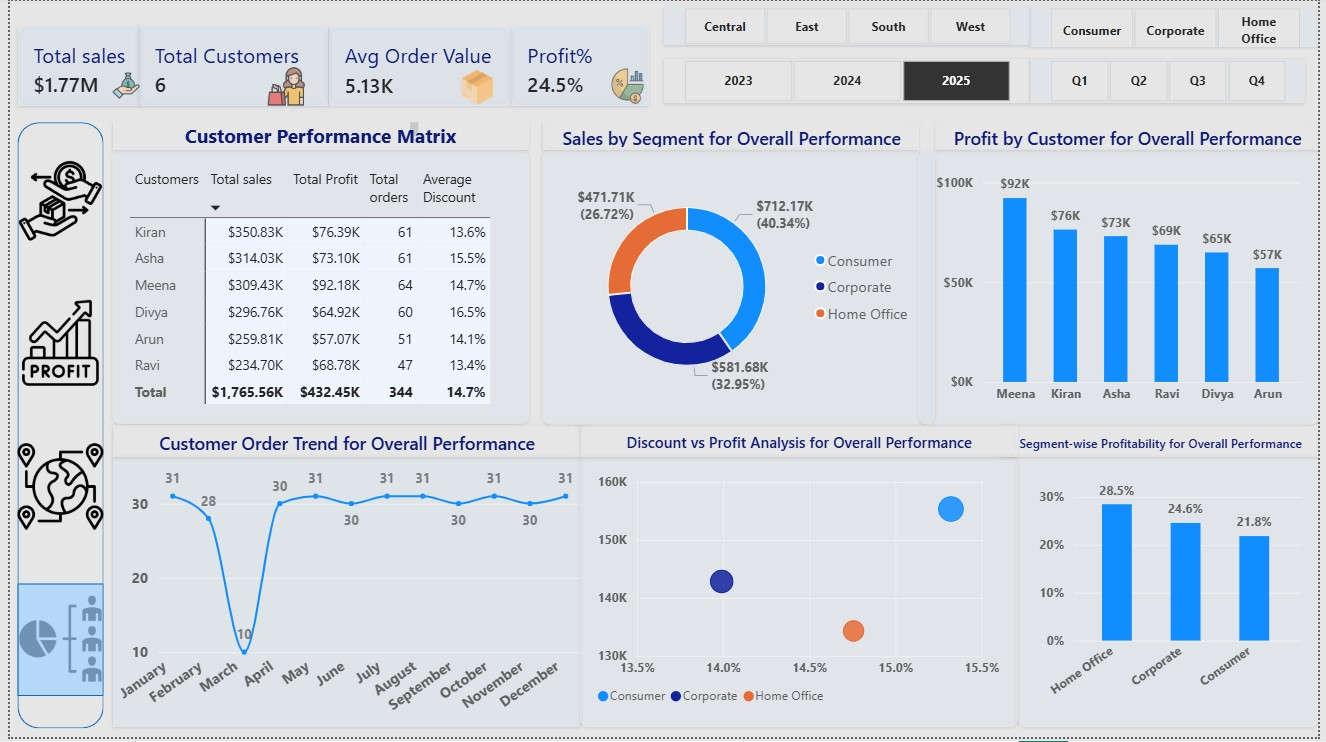

What the dashboard file says about the page in this screenshot:
{"tool":"powerbi","page":{"name":"Customer & Segment Analysis","canvas":[1280,720],"ordinal":4},"visuals":[{"type":"cardVisual","fields":{"Data":["Key measure.Total sales"]},"box":[6.9,24.7,119.4,78.2],"z":0},{"type":"cardVisual","fields":{"Data":["Key measure.Average Order Value"]},"box":[311.5,26.1,178.4,76.8],"z":1000},{"type":"cardVisual","fields":{"Data":["Key measure.Total Customers"]},"box":[126.2,24.7,185.2,78.2],"z":2000},{"type":"cardVisual","fields":{"Data":["Key measure.Profit%"]},"box":[489.9,24.7,134.5,78.2],"z":4000},{"type":"image","box":[424,65.9,65.9,37],"z":5000},{"type":"image","box":[585.9,64.5,37,37],"z":6000},{"type":"image","box":[100.2,63.1,26.1,38.4],"z":7000},{"type":"donutChart","fields":{"Y":["Key measure.Total sales"],"Category":["fact_sales.Segment"]},"box":[520.9,145.5,384,269],"z":8000},{"type":"columnChart","fields":{"Y":["Key measure.Total Profit"],"Category":["fact_sales.Customer_Name"]},"box":[889.2,145.5,391.1,269],"z":9000},{"type":"slicer","fields":{"Values":["dim_date.FY"]},"box":[640,56.2,357.5,43.8],"z":10000},{"type":"slicer","fields":{"Values":["dim_date.Quarters"]},"box":[997.5,56.2,268.8,43.8],"z":11000},{"type":"slicer","fields":{"Values":["fact_sales.Region"]},"box":[639.5,5.5,358.1,38.4],"z":12000},{"type":"pivotTable","fields":{"Rows":["fact_sales.Customer_Name"],"Values":["Key measure.Total sales","Key measure.Total Profit","Key measure.Total orders","Key measure.Average Discount"]},"box":[100.3,145.5,407.2,267.8],"z":13000},{"type":"textbox","box":[100.2,118,299.1,13.7],"z":14000},{"type":"textbox","box":[100.3,118.6,407.2,26.9],"z":15000},{"type":"image","box":[244.3,63.1,50.8,39.8],"z":16000},{"type":"slicer","fields":{"Values":["fact_sales.Segment"]},"box":[997.6,5.5,282.7,39.8],"z":17000},{"type":"lineChart","fields":{"Y":["Key measure.Total orders"],"Category":["dim_date.Month Name"]},"box":[100.3,446.3,457.3,264.1],"z":18000},{"type":"clusteredColumnChart","fields":{"Category":["fact_sales.Segment"],"Y":["Key measure.Profit%"]},"box":[985.6,446.3,294.7,264.1],"z":19000},{"type":"scatterChart","fields":{"X":["Key measure.Average Discount"],"Y":["Sum(fact_sales.Profit)"],"Series":["fact_sales.Segment"],"Size":["Key measure.Total sales"]},"box":[557.6,446.3,428,264.1],"z":20000},{"type":"cardVisual","fields":{"Data":["Key measure.Dynamic Segment Sales Title"]},"box":[520.9,118.6,368.1,26.9],"z":21000},{"type":"cardVisual","fields":{"Data":["Key measure.Dynamic Customer Profit Title"]},"box":[904.3,118,376,27.4],"z":22000},{"type":"cardVisual","fields":{"Data":["Key measure.Dynamic Customer Trend Title"]},"box":[100.3,414.5,457.3,31.8],"z":23000},{"type":"cardVisual","fields":{"Data":["Key measure.Dynamic Segment Profit Title"]},"box":[970.2,414.4,310.1,31.6],"z":24000},{"type":"cardVisual","fields":{"Data":["Key measure.Dynamic Discount Analysis Title"]},"box":[557.6,414.5,428,31.8],"z":25000},{"type":"shape","box":[7.3,118.6,84.4,593.1],"z":26000},{"type":"image","box":[7.3,145.5,84.4,100.3],"z":27000},{"type":"image","box":[7.3,278.8,84.4,111.3],"z":28000},{"type":"image","box":[7.3,415.8,84.4,118.6],"z":29000},{"type":"image","box":[7.3,569.8,84.4,107.6],"z":30000},{"type":"shape","box":[7.3,569.8,84.4,110.1],"z":31000}]}

Visuals, with their boxes in screenshot pixels (x1, y1, x2, y2), scaled from the page's 1280x720 canvas onto the 1326x742 screenshot:
cardVisual - Key measure.Total sales: bbox=[7, 25, 131, 106]
cardVisual - Key measure.Average Order Value: bbox=[323, 27, 508, 106]
cardVisual - Key measure.Total Customers: bbox=[131, 25, 323, 106]
cardVisual - Key measure.Profit%: bbox=[508, 25, 647, 106]
image: bbox=[439, 68, 508, 106]
image: bbox=[607, 66, 645, 105]
image: bbox=[104, 65, 131, 105]
donutChart - Key measure.Total sales x fact_sales.Segment: bbox=[540, 150, 937, 427]
columnChart - Key measure.Total Profit x fact_sales.Customer_Name: bbox=[921, 150, 1325, 427]
slicer - dim_date.FY: bbox=[663, 58, 1033, 103]
slicer - dim_date.Quarters: bbox=[1033, 58, 1312, 103]
slicer - fact_sales.Region: bbox=[662, 6, 1033, 45]
pivotTable - fact_sales.Customer_Name x Key measure.Total sales: bbox=[104, 150, 526, 426]
textbox: bbox=[104, 122, 414, 136]
textbox: bbox=[104, 122, 526, 150]
image: bbox=[253, 65, 306, 106]
slicer - fact_sales.Segment: bbox=[1033, 6, 1325, 47]
lineChart - Key measure.Total orders x dim_date.Month Name: bbox=[104, 460, 578, 732]
clusteredColumnChart - fact_sales.Segment x Key measure.Profit%: bbox=[1021, 460, 1325, 732]
scatterChart - Key measure.Average Discount x Sum(fact_sales.Profit): bbox=[578, 460, 1021, 732]
cardVisual - Key measure.Dynamic Segment Sales Title: bbox=[540, 122, 921, 150]
cardVisual - Key measure.Dynamic Customer Profit Title: bbox=[937, 122, 1325, 150]
cardVisual - Key measure.Dynamic Customer Trend Title: bbox=[104, 427, 578, 460]
cardVisual - Key measure.Dynamic Segment Profit Title: bbox=[1005, 427, 1325, 460]
cardVisual - Key measure.Dynamic Discount Analysis Title: bbox=[578, 427, 1021, 460]
shape: bbox=[8, 122, 95, 733]
image: bbox=[8, 150, 95, 253]
image: bbox=[8, 287, 95, 402]
image: bbox=[8, 429, 95, 551]
image: bbox=[8, 587, 95, 698]
shape: bbox=[8, 587, 95, 701]
